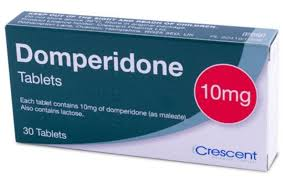Domperidone: (14, 36, 183, 78)
